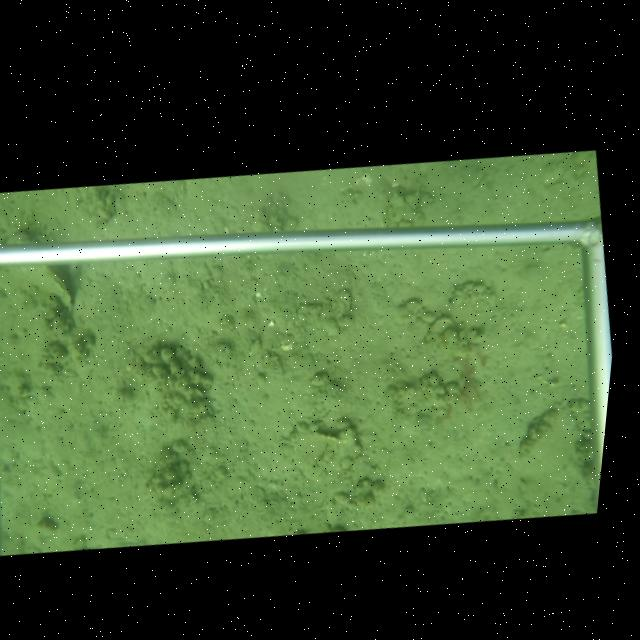Oyster-Closed: (22, 267, 78, 310)
